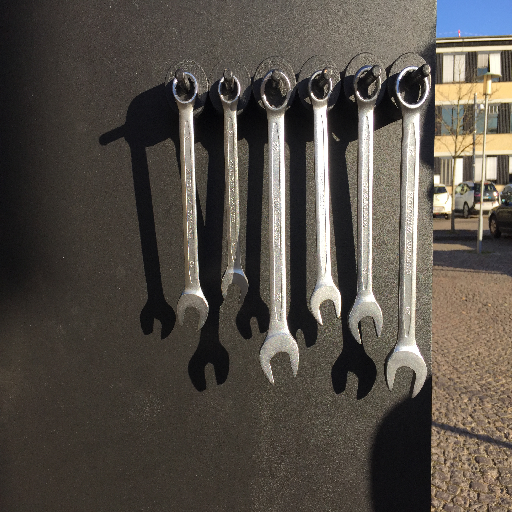bottom: (383, 341, 428, 399), (258, 329, 300, 384), (346, 293, 385, 346), (309, 279, 343, 325), (175, 290, 211, 332), (218, 267, 251, 303)
top: (394, 66, 431, 114), (258, 69, 292, 114), (352, 64, 383, 105), (169, 71, 201, 108), (306, 68, 334, 106), (216, 74, 243, 108)
